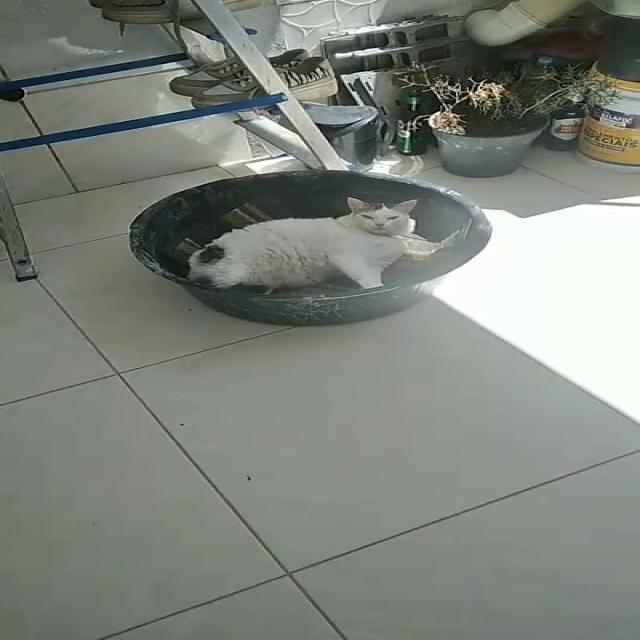Simba: (178, 189, 477, 287)
